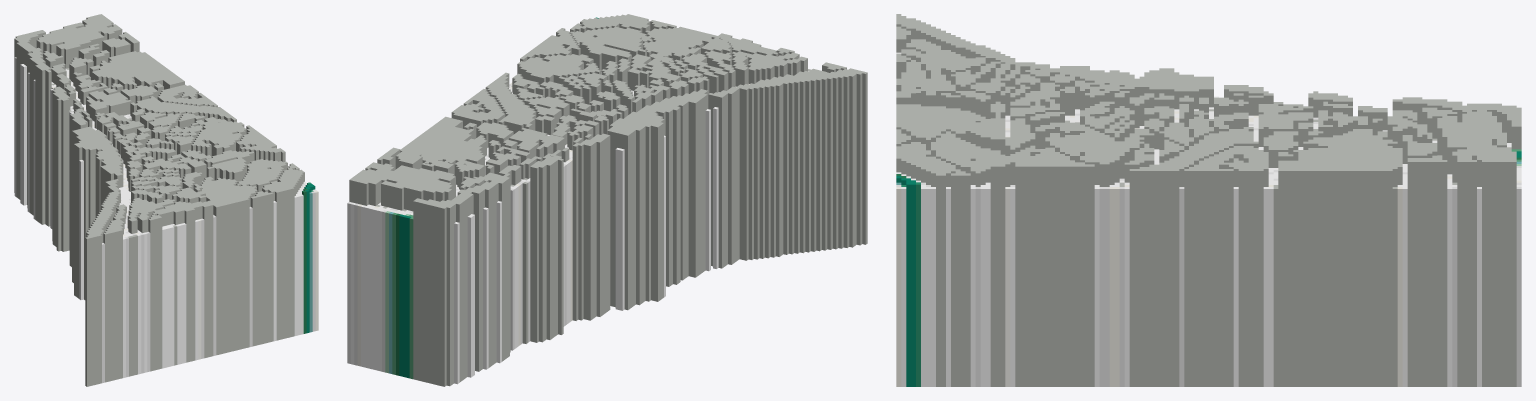
Rendered from 200610 magicvoxel1-12.obj.
The picture shows the model from 3 angles, left to right: view 1: azimuth 30°, elevation 25°; view 2: azimuth 150°, elevation 25°; view 3: azimuth 270°, elevation 25°; orthographic projection. The views are drawn at different scales.
Size of the model in its own units: 7.7 by 5 by 12.6.
1 material, 1 textured.
